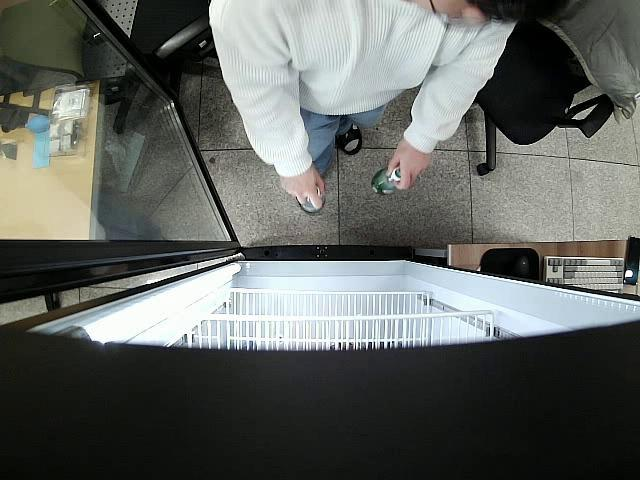18_trevi: (370, 162, 402, 200), (293, 189, 326, 218)
